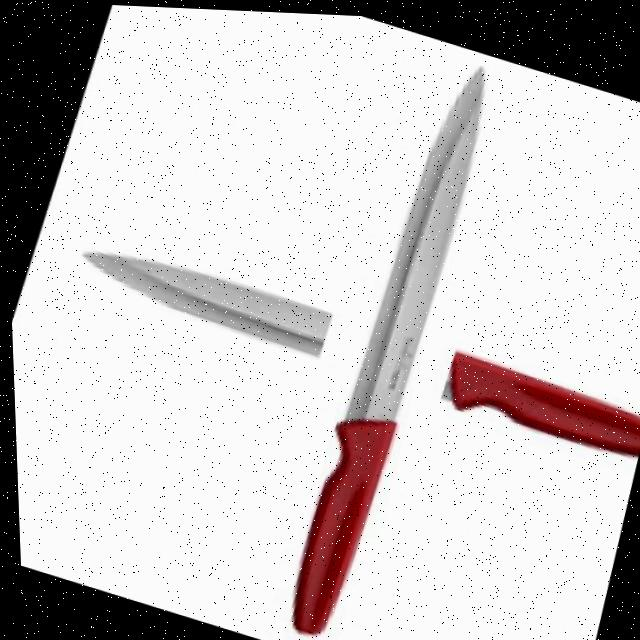knife: (261, 38, 511, 640), (72, 234, 640, 461)
